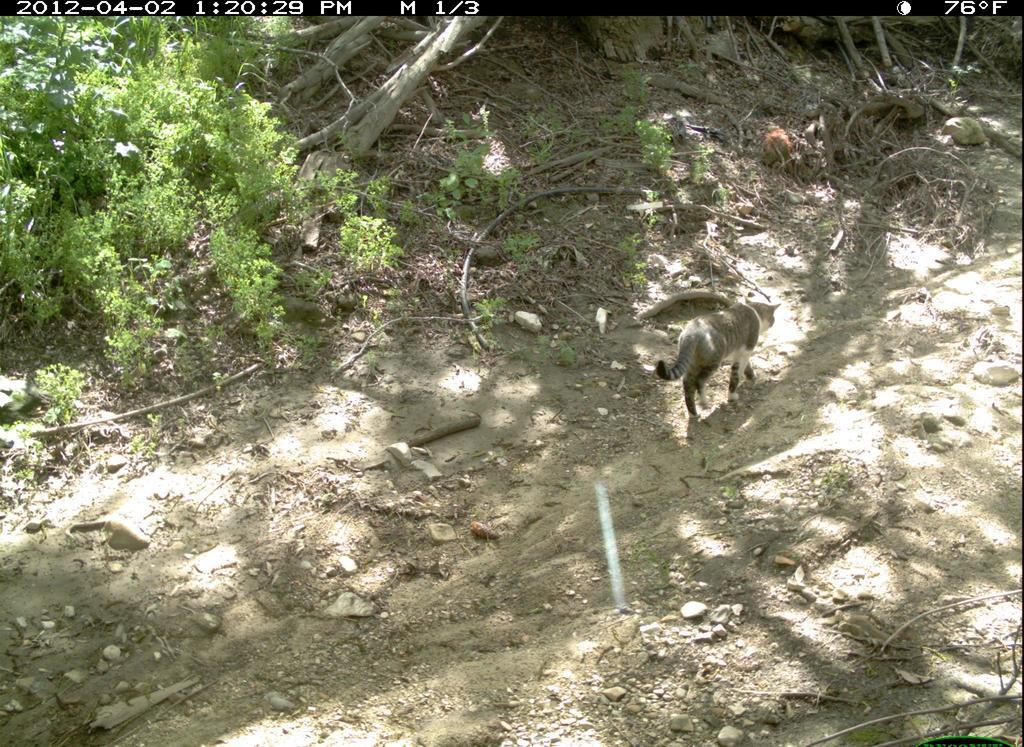cat: (649, 296, 788, 427)
